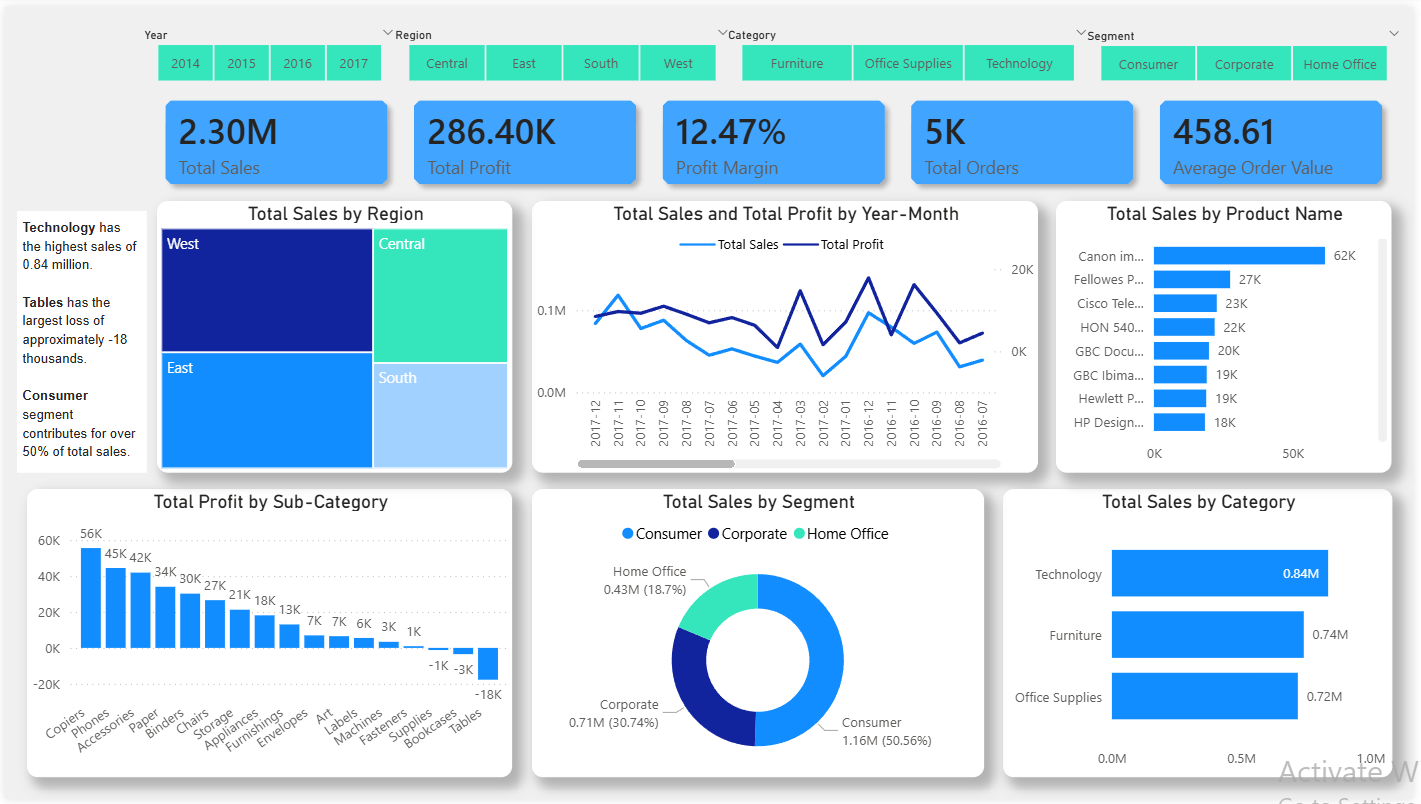

Layout of this report page (visuals, bound fields, positions):
{"tool":"powerbi","page":{"name":"Page 1","canvas":[1280,720],"ordinal":0},"visuals":[{"type":"cardVisual","fields":{"Data":["Sample - Superstore.Total Sales","Sample - Superstore.Total Profit","Sample - Superstore.Profit Margin","Sample - Superstore.Total Orders","Sample - Superstore.Average Order Value"]},"box":[122,61,1158,124],"z":0},{"type":"lineChart","fields":{"Y":["Sample - Superstore.Total Sales"],"Y2":["Sample - Superstore.Total Profit"],"Category":["Date Table.Year-Month"]},"box":[479,176,460,247],"z":1000},{"type":"barChart","fields":{"Category":["Sample - Superstore.Category"],"Y":["Sample - Superstore.Total Sales"]},"box":[907,438,354,262.1],"z":2000},{"type":"columnChart","fields":{"Category":["Sample - Superstore.Sub-Category"],"Y":["Sample - Superstore.Total Profit"]},"box":[19.6,438,441.4,262.1],"z":3000},{"type":"barChart","fields":{"Category":["Sample - Superstore.Product Name"],"Y":["Sample - Superstore.Total Sales"]},"box":[955,176,305,247],"z":4000},{"type":"donutChart","fields":{"Category":["Sample - Superstore.Segment"],"Y":["Sample - Superstore.Total Sales"]},"box":[479,438.4,410.5,261.6],"z":5000},{"type":"slicer","fields":{"Values":["Sample - Superstore.Year"]},"box":[114,13.8,252,59.8],"z":6000},{"type":"slicer","fields":{"Values":["Sample - Superstore.Region"]},"box":[342.1,13.8,328.3,59.8],"z":7000},{"type":"slicer","fields":{"Values":["Sample - Superstore.Category"]},"box":[644.6,13.8,351.3,59.8],"z":8000},{"type":"slicer","fields":{"Values":["Sample - Superstore.Segment"]},"box":[970.9,14.2,309.5,59.4],"z":9000},{"type":"treemap","fields":{"Group":["Sample - Superstore.Region"],"Values":["Divide(Sample - Superstore.Total Sales, ScopedEval(Sample - Superstore.Total Sales, []))"]},"box":[138,176,323,247],"z":10000},{"type":"textbox","box":[11,185,118,238],"z":10001}]}

Visuals, with their boxes in screenshot pixels (x1, y1, x2, y2), scaled from the page's 1280x720 canvas onto the 1421x804 screenshot:
cardVisual - Sample - Superstore.Total Sales x Sample - Superstore.Total Profit: l=135, t=68, r=1420, b=207
lineChart - Sample - Superstore.Total Sales x Sample - Superstore.Total Profit: l=532, t=197, r=1042, b=472
barChart - Sample - Superstore.Category x Sample - Superstore.Total Sales: l=1007, t=489, r=1400, b=782
columnChart - Sample - Superstore.Sub-Category x Sample - Superstore.Total Profit: l=22, t=489, r=512, b=782
barChart - Sample - Superstore.Product Name x Sample - Superstore.Total Sales: l=1060, t=197, r=1399, b=472
donutChart - Sample - Superstore.Segment x Sample - Superstore.Total Sales: l=532, t=490, r=987, b=782
slicer - Sample - Superstore.Year: l=127, t=15, r=406, b=82
slicer - Sample - Superstore.Region: l=380, t=15, r=744, b=82
slicer - Sample - Superstore.Category: l=716, t=15, r=1106, b=82
slicer - Sample - Superstore.Segment: l=1078, t=16, r=1420, b=82
treemap - Sample - Superstore.Region x Divide(Sample - Superstore.Total Sales, ScopedEval(Sample - Superstore.Total Sales, [])): l=153, t=197, r=512, b=472
textbox: l=12, t=207, r=143, b=472
